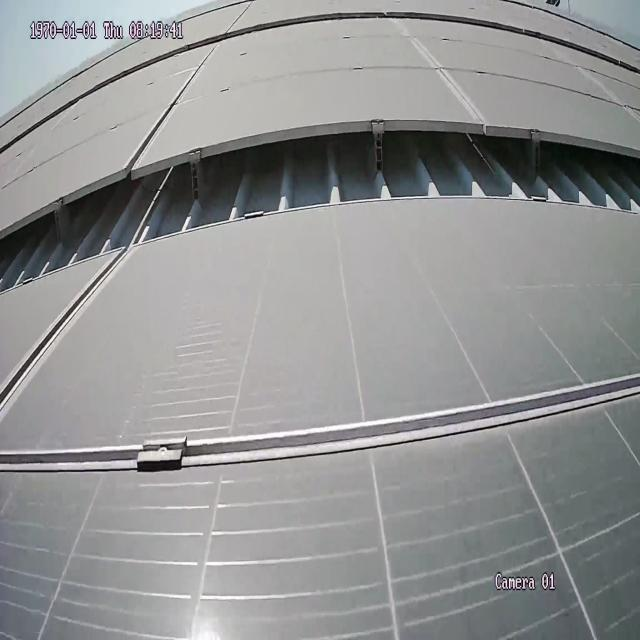interior panel: (0, 270, 636, 480), (393, 24, 491, 116), (128, 48, 211, 155)
outher panel: (1, 112, 640, 294)
